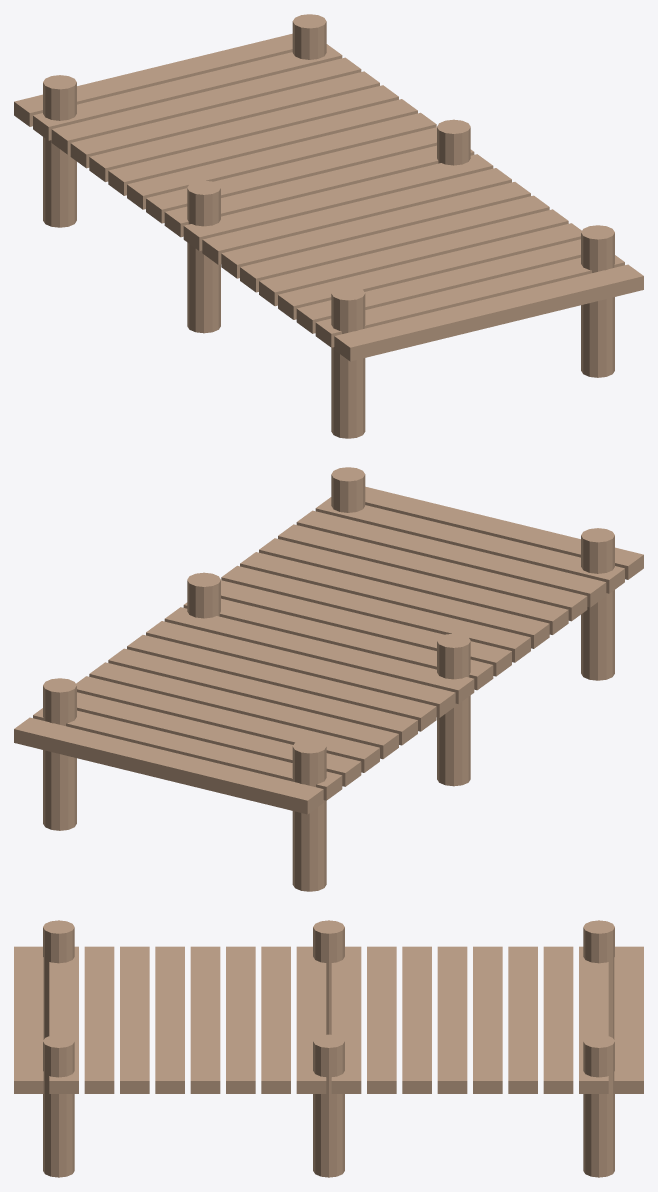
Rendered from wooden_dock.glb.
3 renders of one model, top to bottom at view 1: azimuth 30°, elevation 25°; view 2: azimuth 150°, elevation 25°; view 3: azimuth 270°, elevation 25°, orthographic. The views are drawn at different scales.
Visible parts, largest first — view 1: wooden_dock_000, wooden_dock_015, wooden_dock_013, wooden_dock_007, wooden_dock_014, wooden_dock_005, wooden_dock_012, wooden_dock_004, wooden_dock_006, wooden_dock_011, wooden_dock_008, wooden_dock_003 (+12 smaller); view 2: wooden_dock_017, wooden_dock_002, wooden_dock_004, wooden_dock_010, wooden_dock_003, wooden_dock_005, wooden_dock_012, wooden_dock_011, wooden_dock_013, wooden_dock_006, wooden_dock_009, wooden_dock_014 (+12 smaller); view 3: wooden_dock_002, wooden_dock_005, wooden_dock_012, wooden_dock_015, wooden_dock_003, wooden_dock_004, wooden_dock_006, wooden_dock_007, wooden_dock_010, wooden_dock_011, wooden_dock_013, wooden_dock_014 (+12 smaller).
Boxes of the visible parts, <box> form: wooden_dock_000: <box>334,264,643,361</box>; wooden_dock_015: <box>51,57,361,154</box>; wooden_dock_013: <box>89,85,398,181</box>; wooden_dock_007: <box>202,168,511,264</box>; wooden_dock_014: <box>70,71,379,168</box>; wooden_dock_005: <box>240,195,549,292</box>; wooden_dock_012: <box>108,99,417,195</box>; wooden_dock_004: <box>259,209,568,306</box>; wooden_dock_006: <box>221,182,530,278</box>; wooden_dock_011: <box>127,112,436,209</box>; wooden_dock_008: <box>183,154,493,250</box>; wooden_dock_003: <box>278,223,581,319</box>; wooden_dock_017: <box>14,717,323,814</box>; wooden_dock_002: <box>296,510,606,607</box>; wooden_dock_004: <box>259,538,568,634</box>; wooden_dock_010: <box>146,621,455,717</box>; wooden_dock_003: <box>278,524,587,621</box>; wooden_dock_005: <box>240,552,549,648</box>; wooden_dock_012: <box>108,648,417,745</box>; wooden_dock_011: <box>127,635,436,731</box>; wooden_dock_013: <box>89,662,398,759</box>; wooden_dock_006: <box>221,565,530,662</box>; wooden_dock_009: <box>164,607,474,703</box>; wooden_dock_014: <box>76,676,379,772</box>; wooden_dock_002: <box>84,946,114,1093</box>; wooden_dock_005: <box>190,946,220,1093</box>; wooden_dock_012: <box>437,946,467,1093</box>; wooden_dock_015: <box>543,946,573,1093</box>; wooden_dock_003: <box>120,946,149,1093</box>; wooden_dock_004: <box>155,946,184,1093</box>; wooden_dock_006: <box>226,946,255,1093</box>; wooden_dock_007: <box>261,946,290,1093</box>; wooden_dock_010: <box>367,946,396,1093</box>; wooden_dock_011: <box>402,946,431,1093</box>; wooden_dock_013: <box>473,946,502,1093</box>; wooden_dock_014: <box>508,946,537,1093</box>.
Bounding box in the file's own units: 2 × 0.9 × 3.96.
